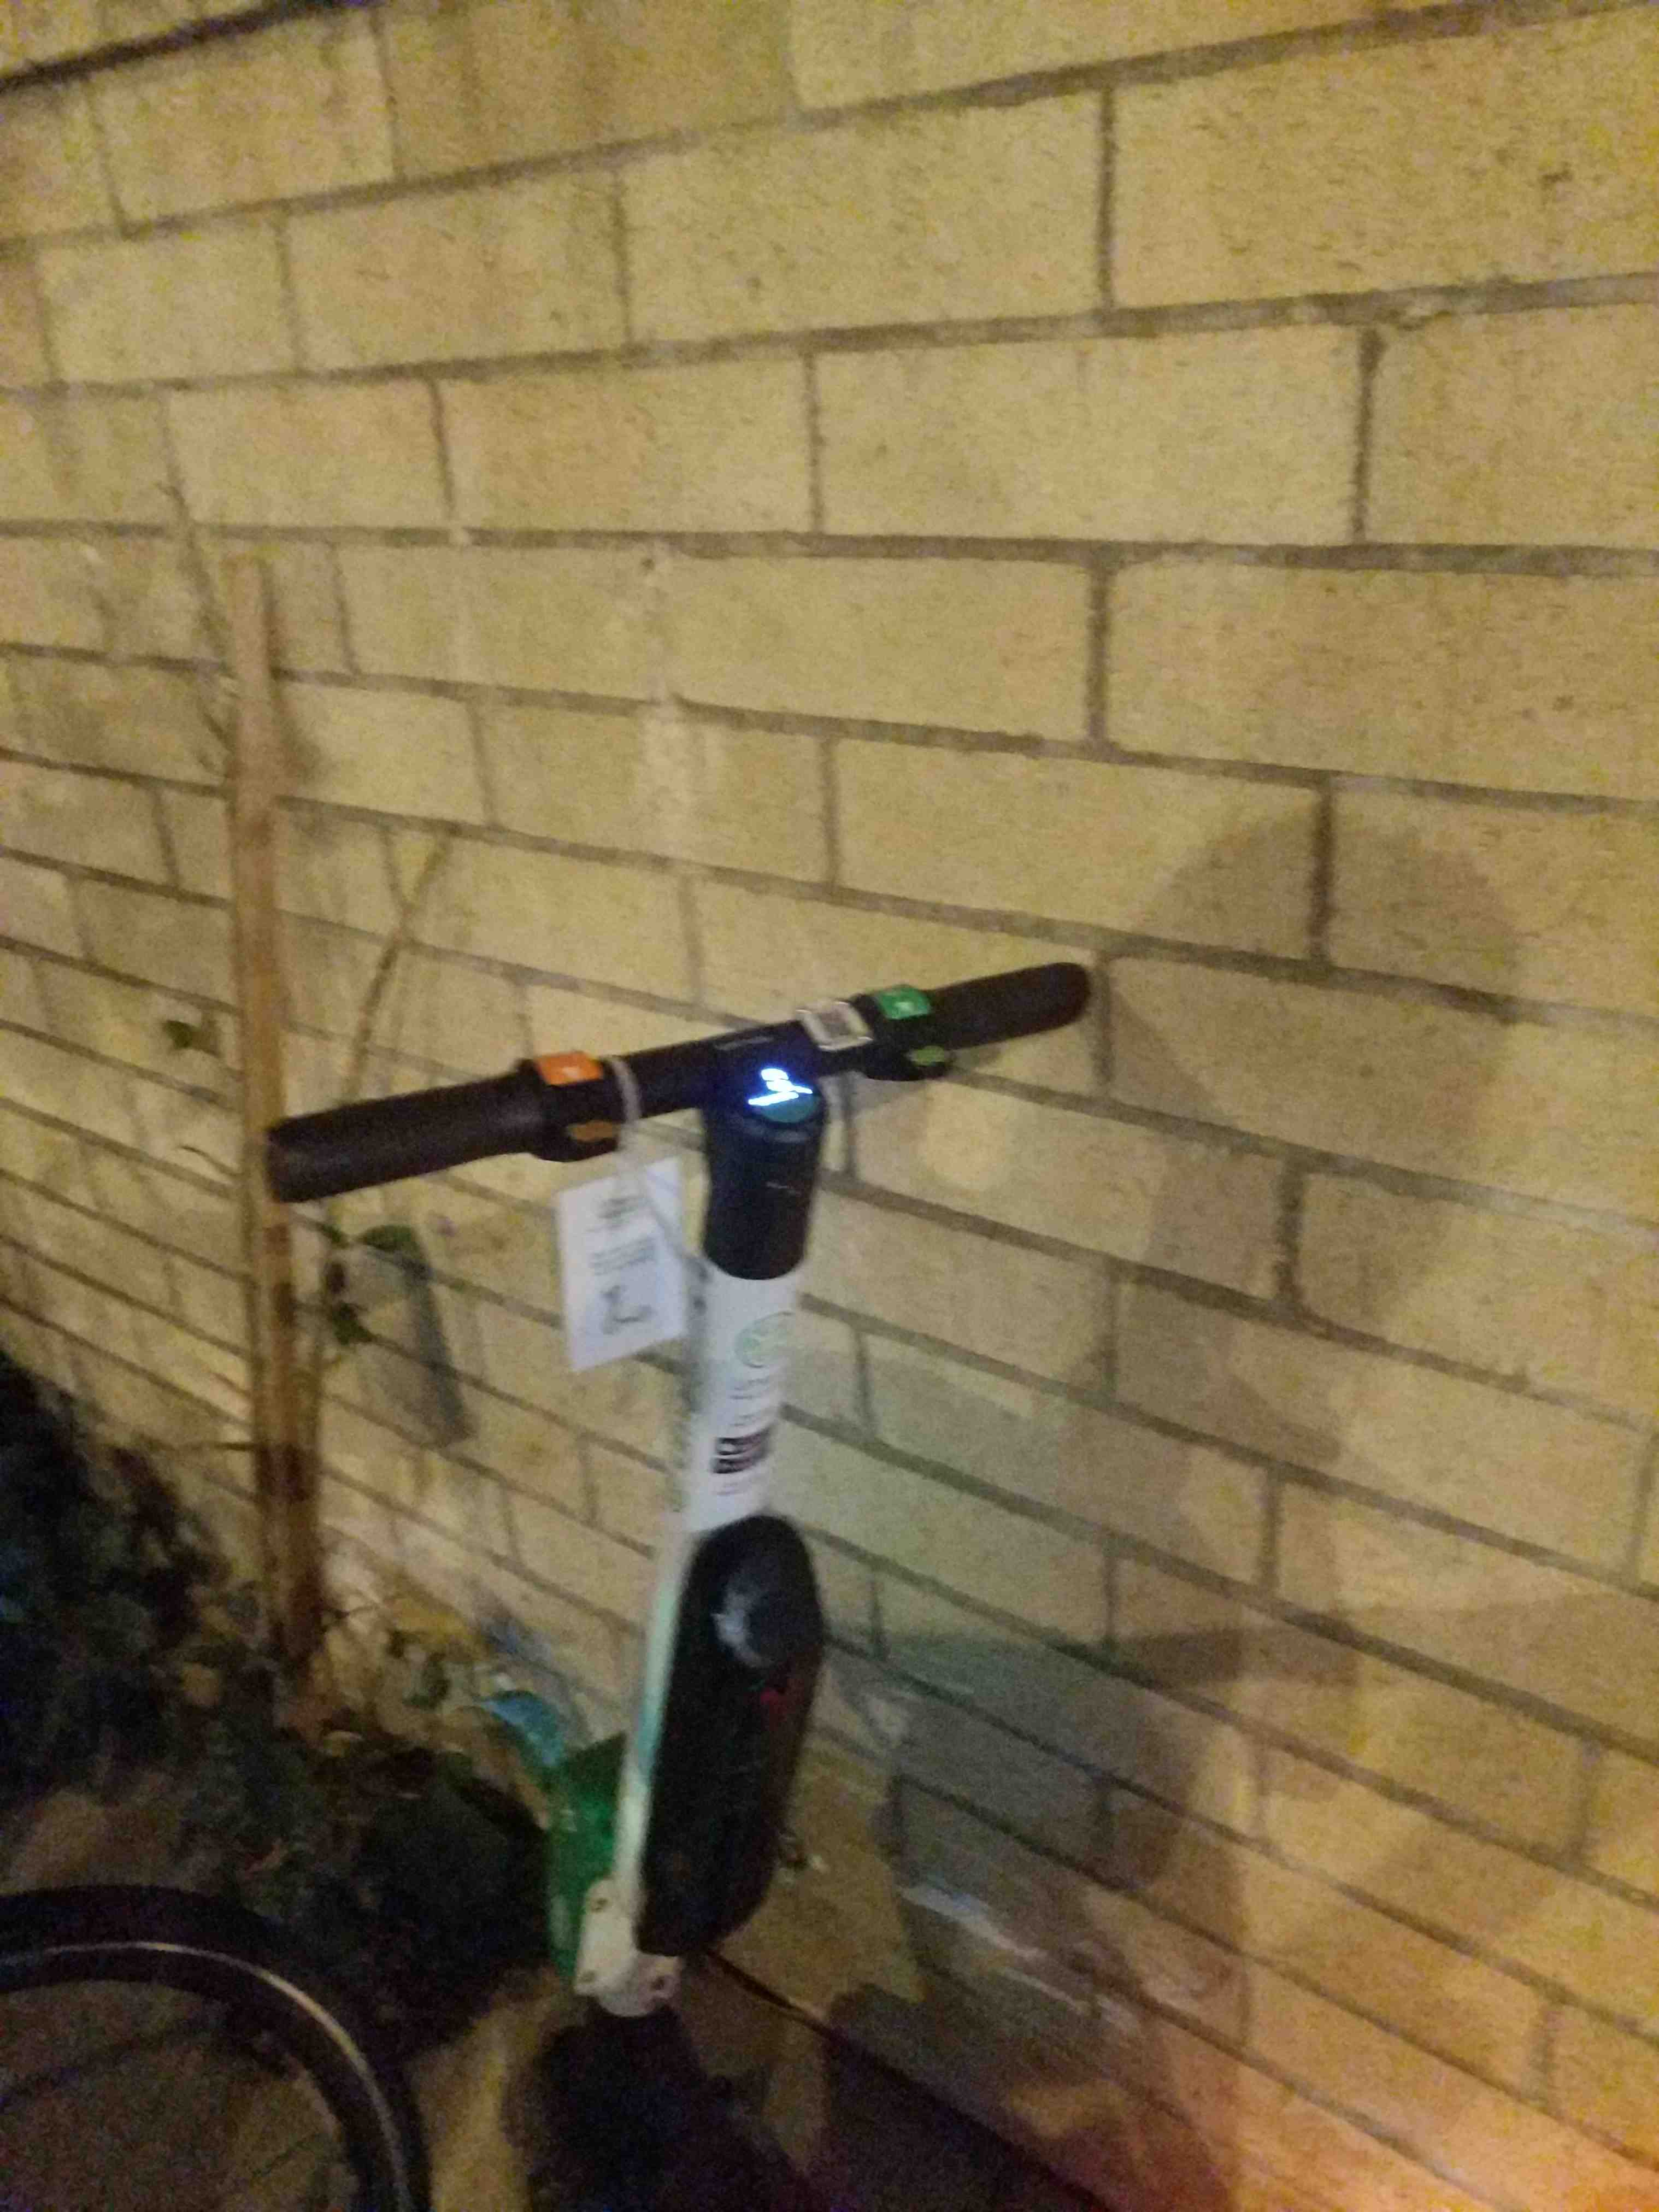scooter: (228, 904, 1659, 2212)
